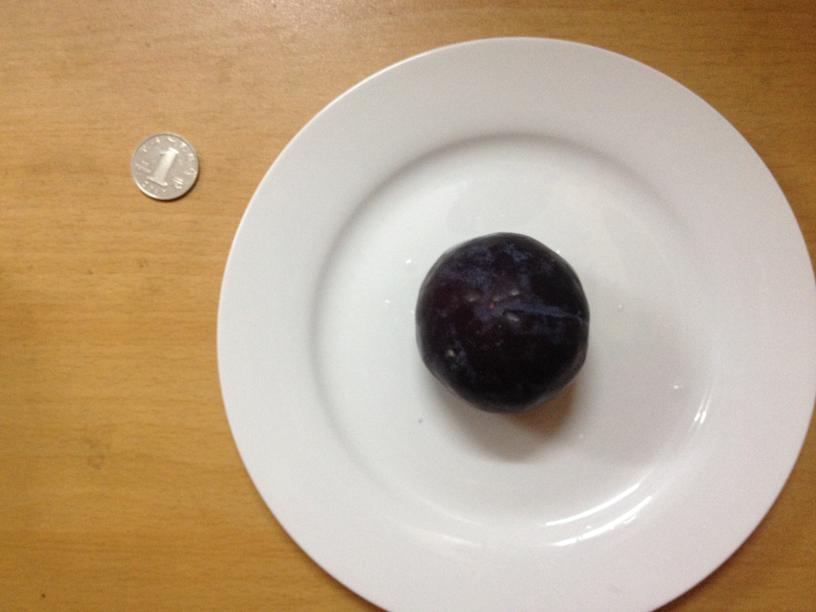coin: (128, 130, 202, 201)
plum: (417, 227, 588, 408)
